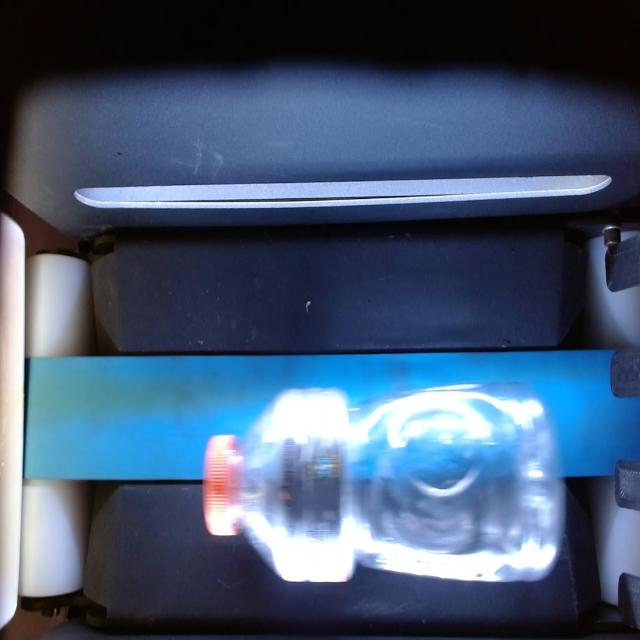bottom: (350, 382, 565, 581)
label: (262, 389, 355, 582)
neck: (204, 422, 272, 561)
